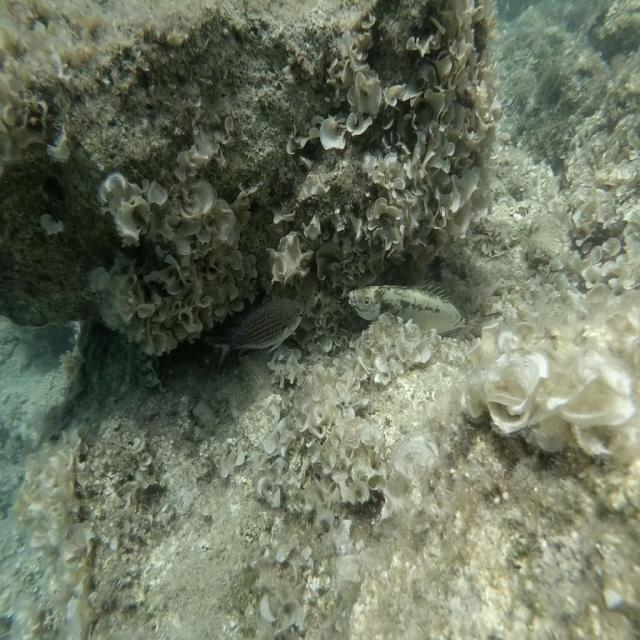Sokar Baligi: (205, 280, 320, 383), (348, 272, 490, 352)
